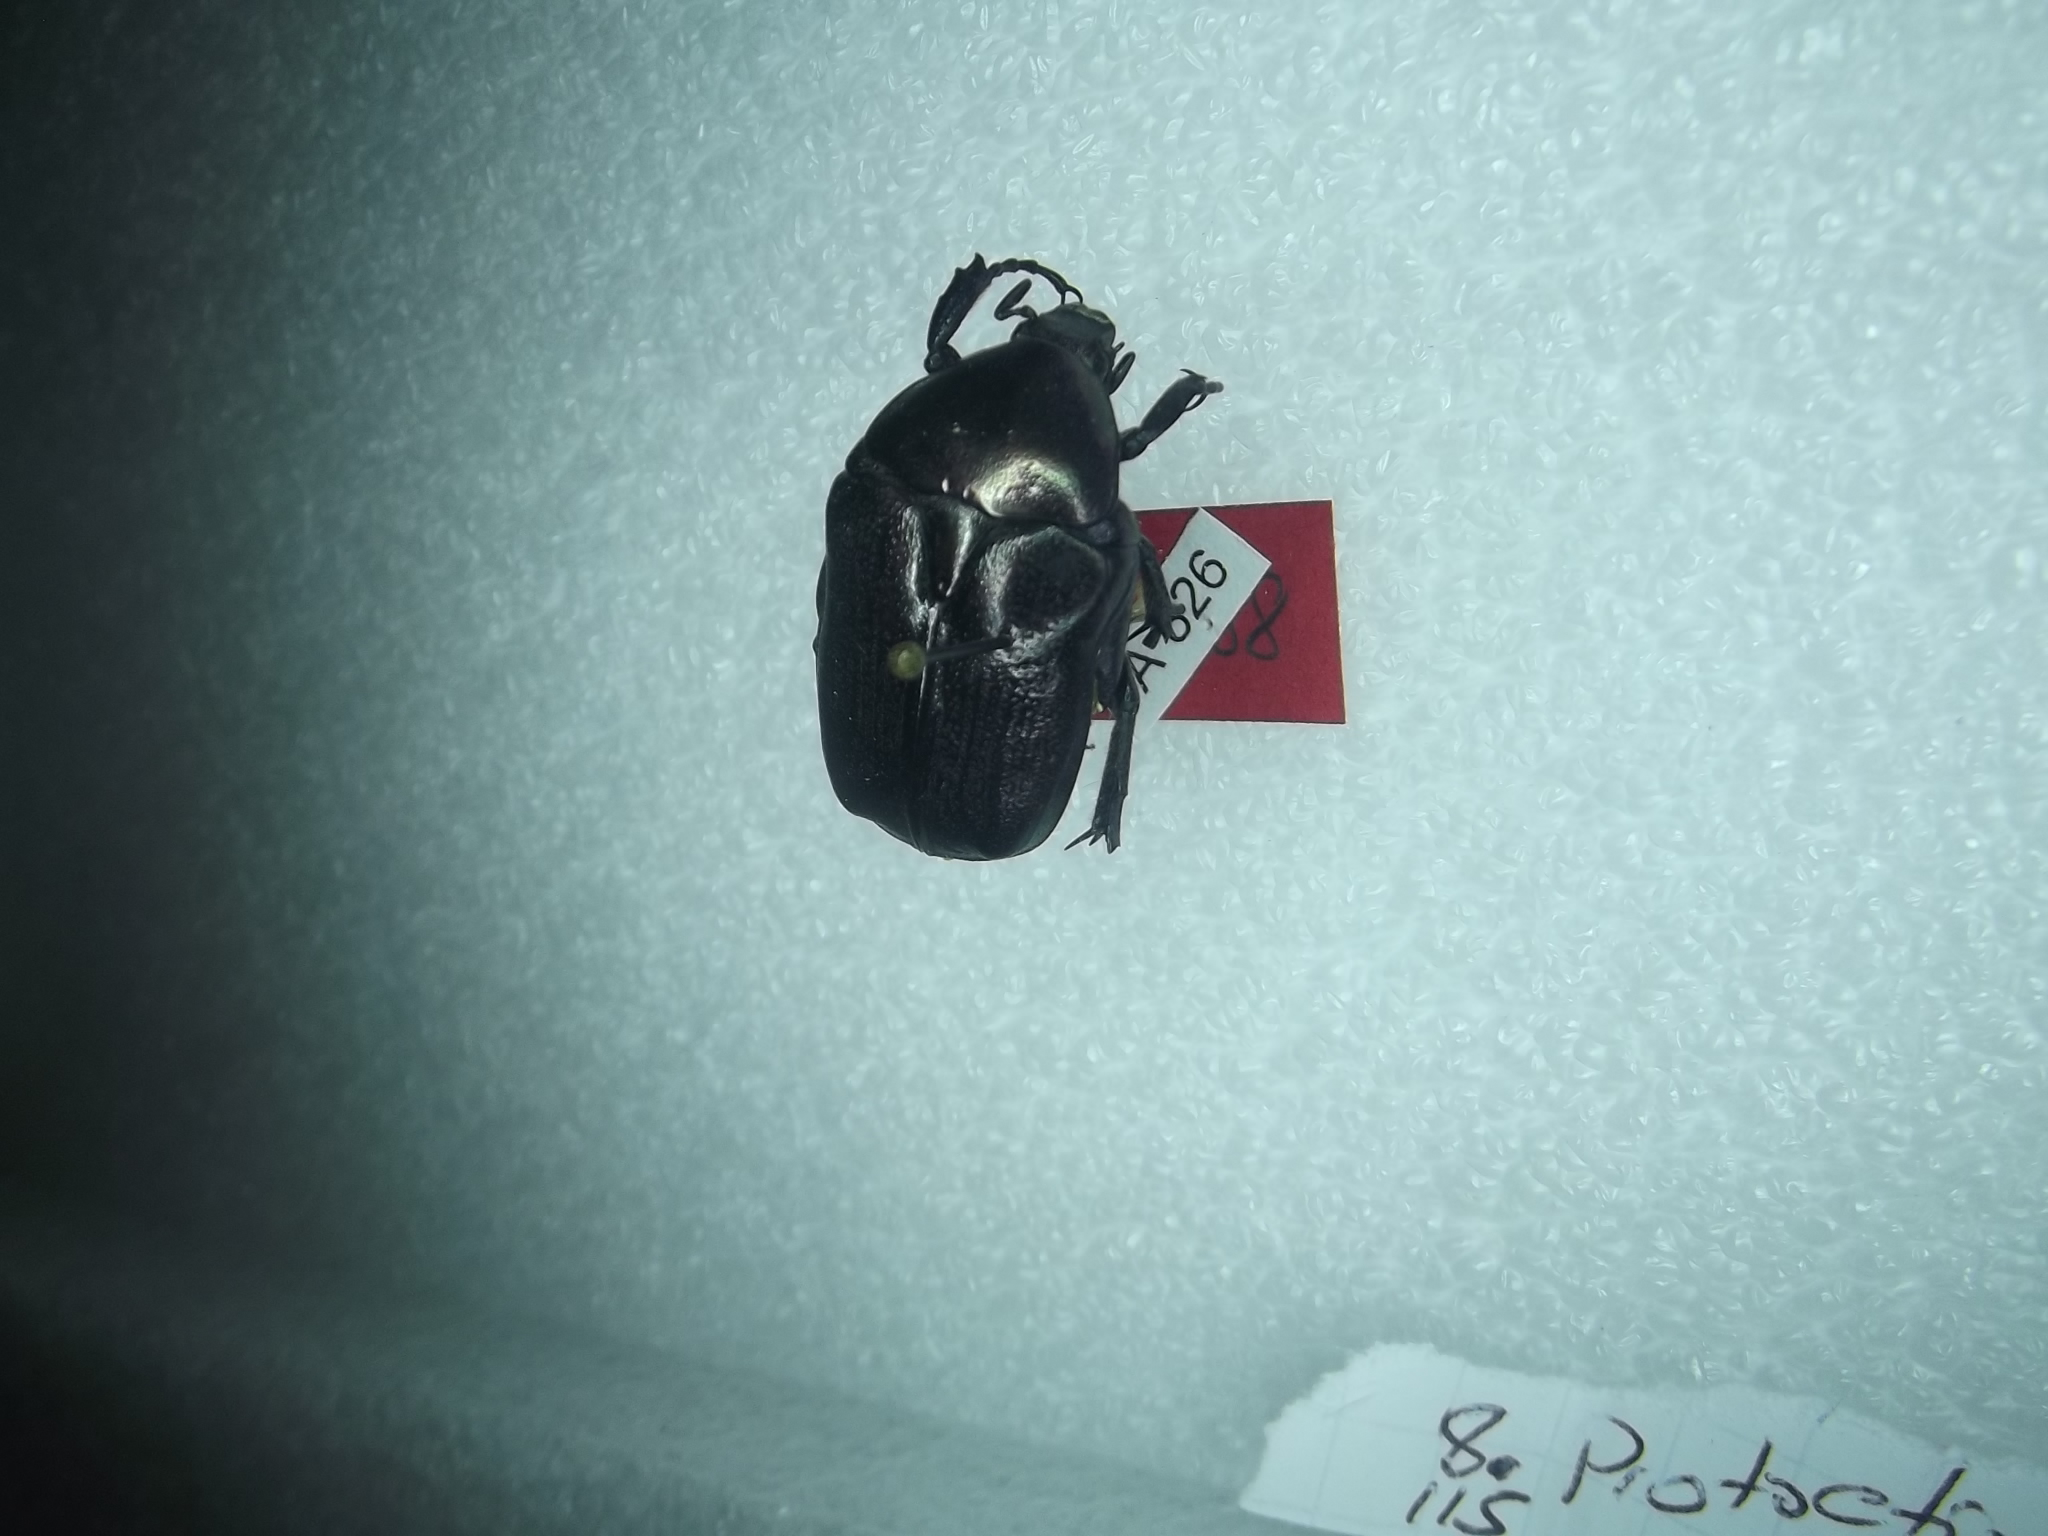Protaetia_besucheti: (800, 203, 1242, 913)
